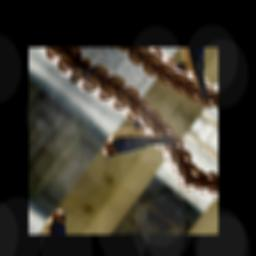Swallow: (98, 88, 199, 193)
